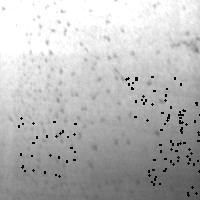pitted_surface: (16, 1, 134, 158), (18, 117, 74, 175), (146, 114, 200, 174), (125, 76, 181, 123), (149, 158, 200, 200), (170, 102, 200, 160)
